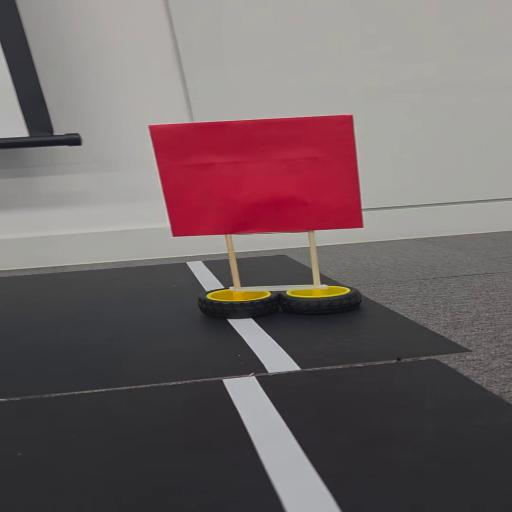Sign_A: (147, 105, 376, 320)
